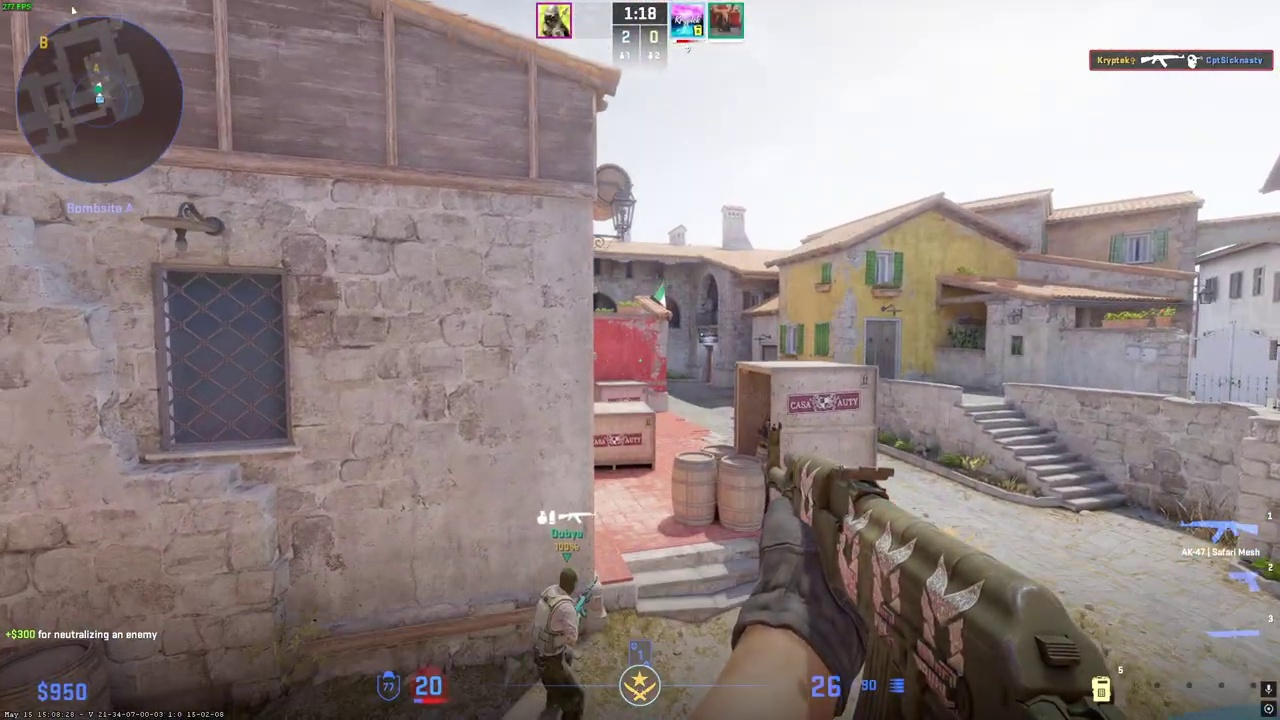Terrorist: (531, 567, 597, 720)
